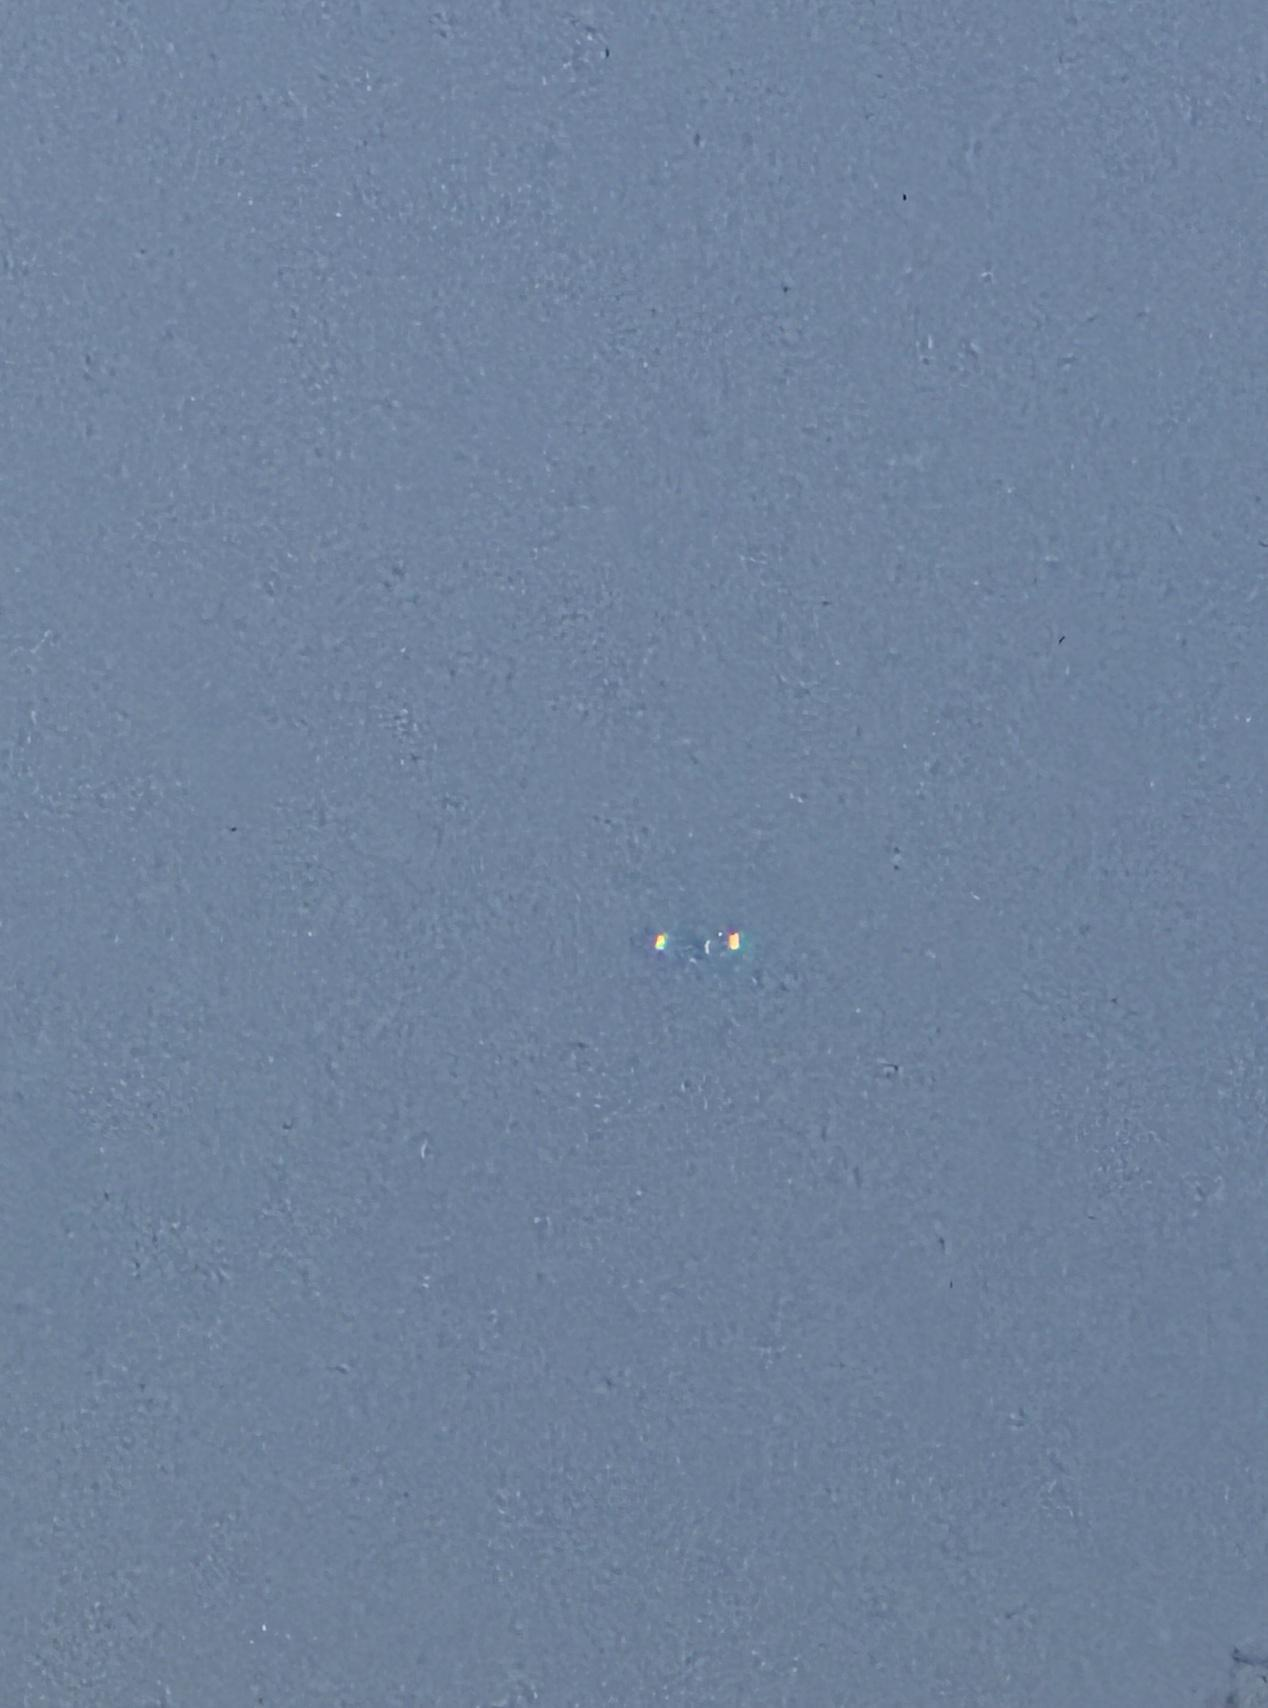Plane: (619, 905, 770, 1000)
